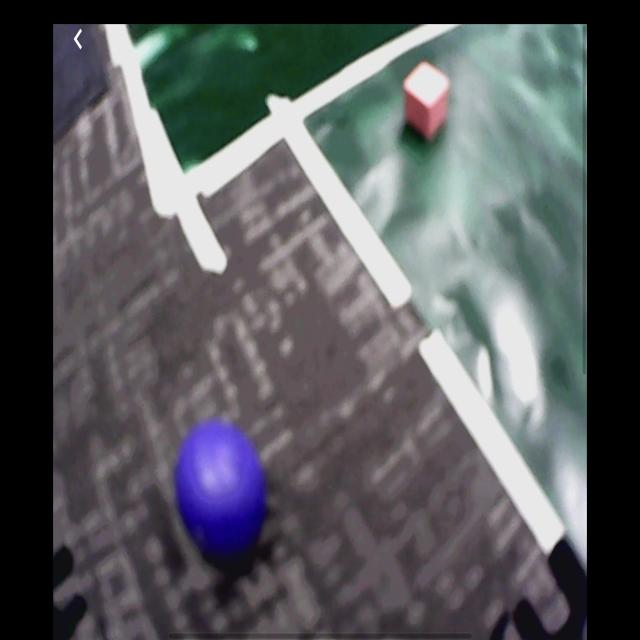ball: (176, 420, 270, 558)
